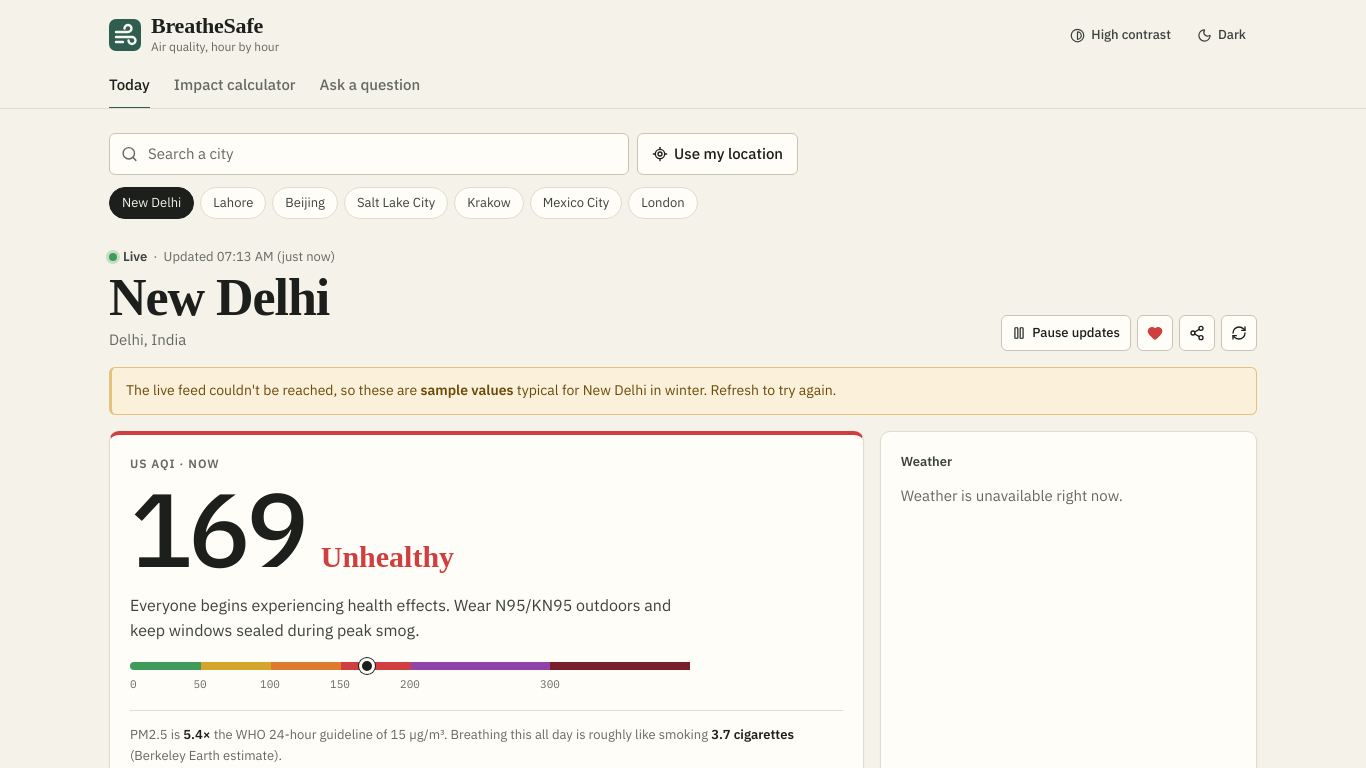
WCAG checks across every section › keeps the question box usable and focused through a chat round trip
Expected: the heading named "Air quality in New Delhi" is shown, [109,271,335,326]
Click the tab "Ask a question": click(370, 85) [320,63,420,108]
(page scrolled)
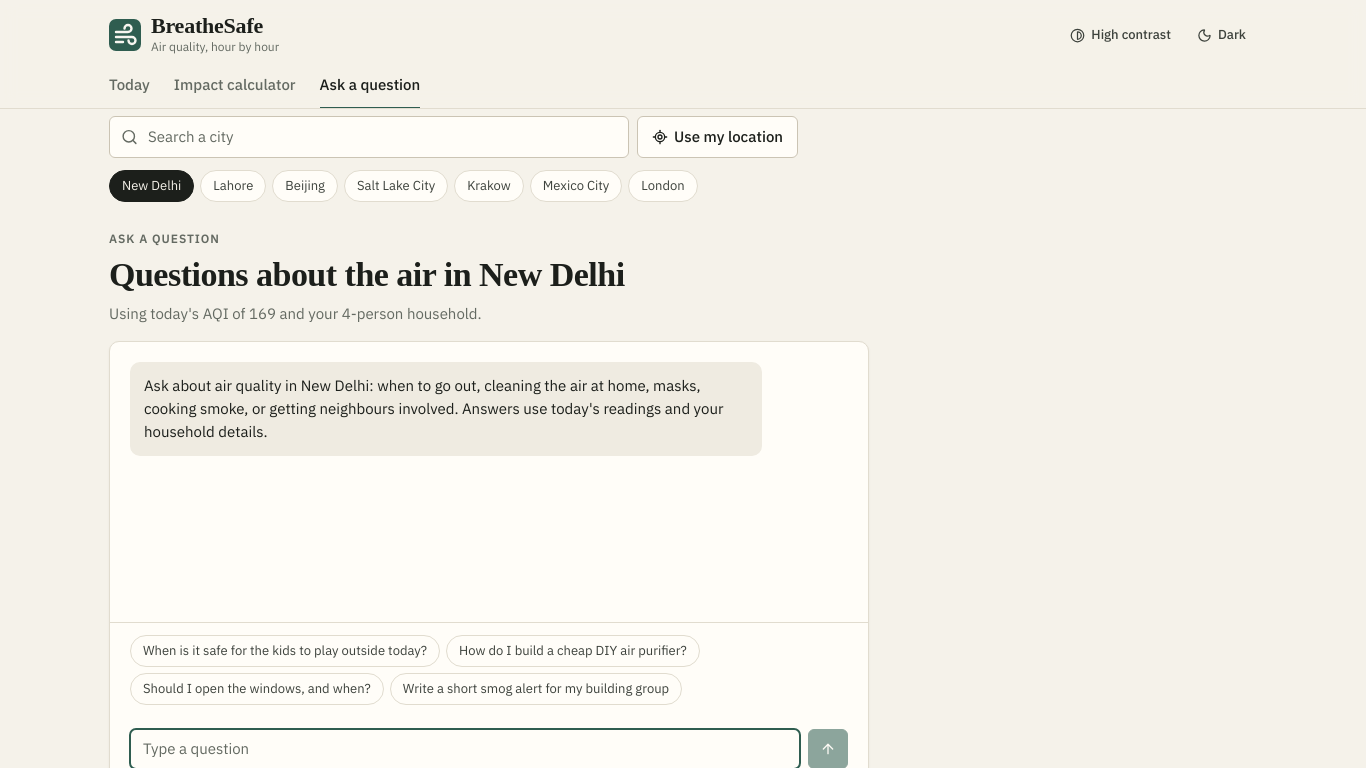
In the field named "Ask a question about air quality": (465, 749) [130,729,800,767], type "How do I make a DIY air purifier?"
(page scrolled)
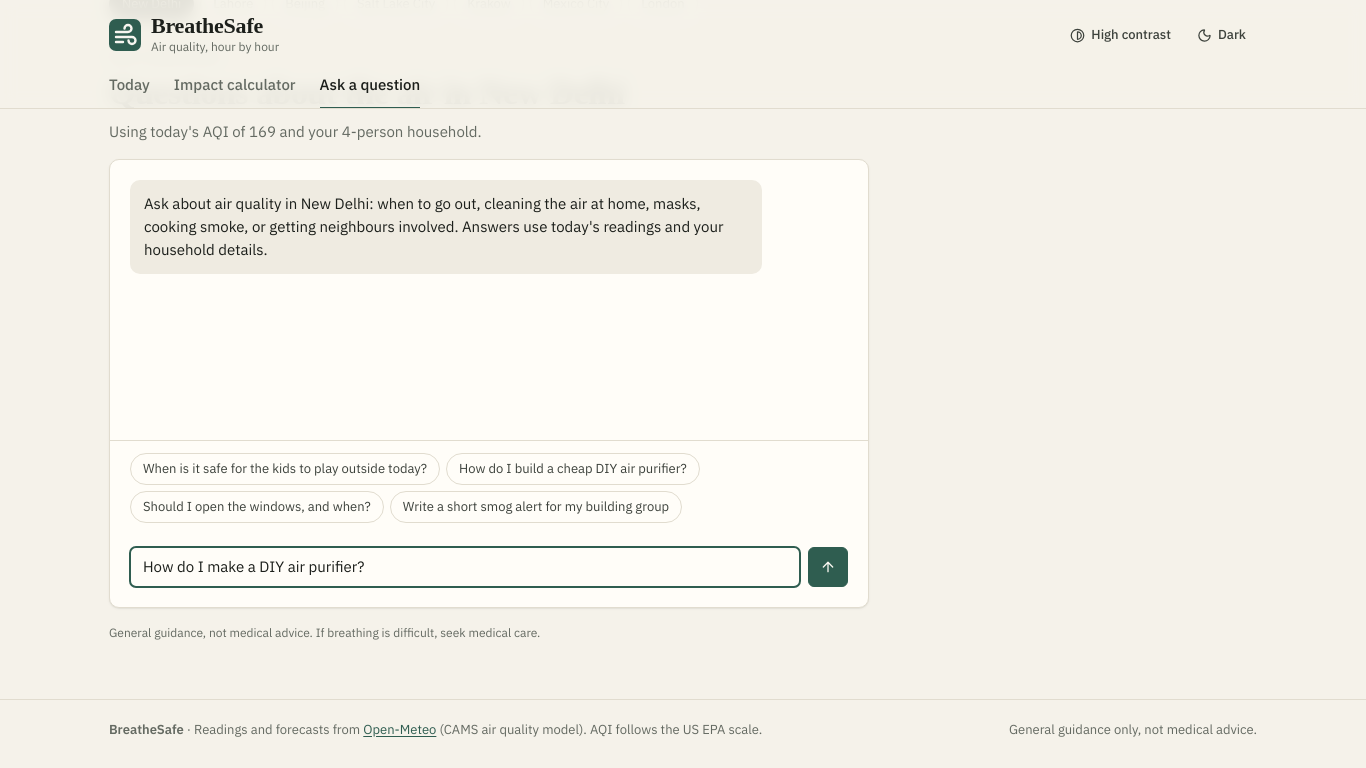
Submit the form named "Ask a question about air quality", box [129,547,848,587]
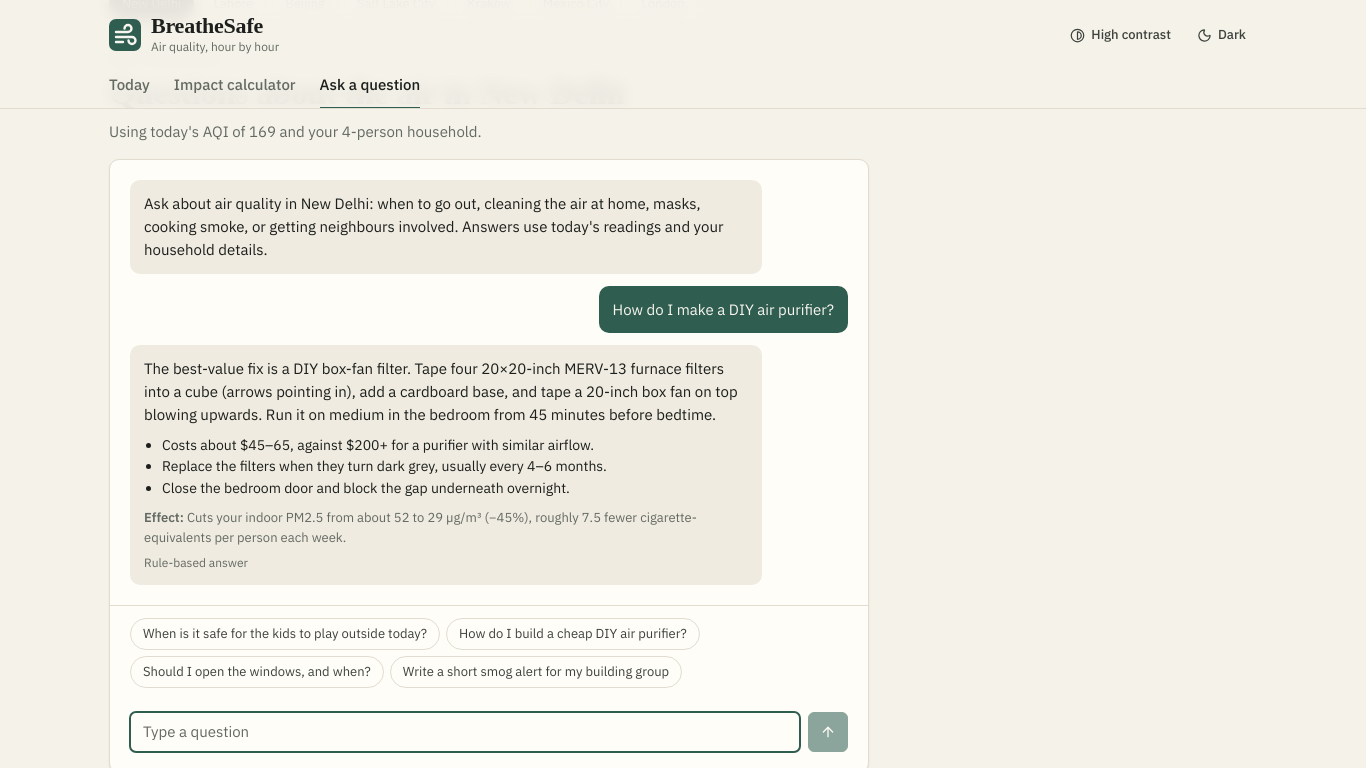
Expected: the field named "Ask a question about air quality" is enabled, [130,712,800,752]
Expected: the text "MERV-13 furnace filters" is shown, [144,359,741,424]
